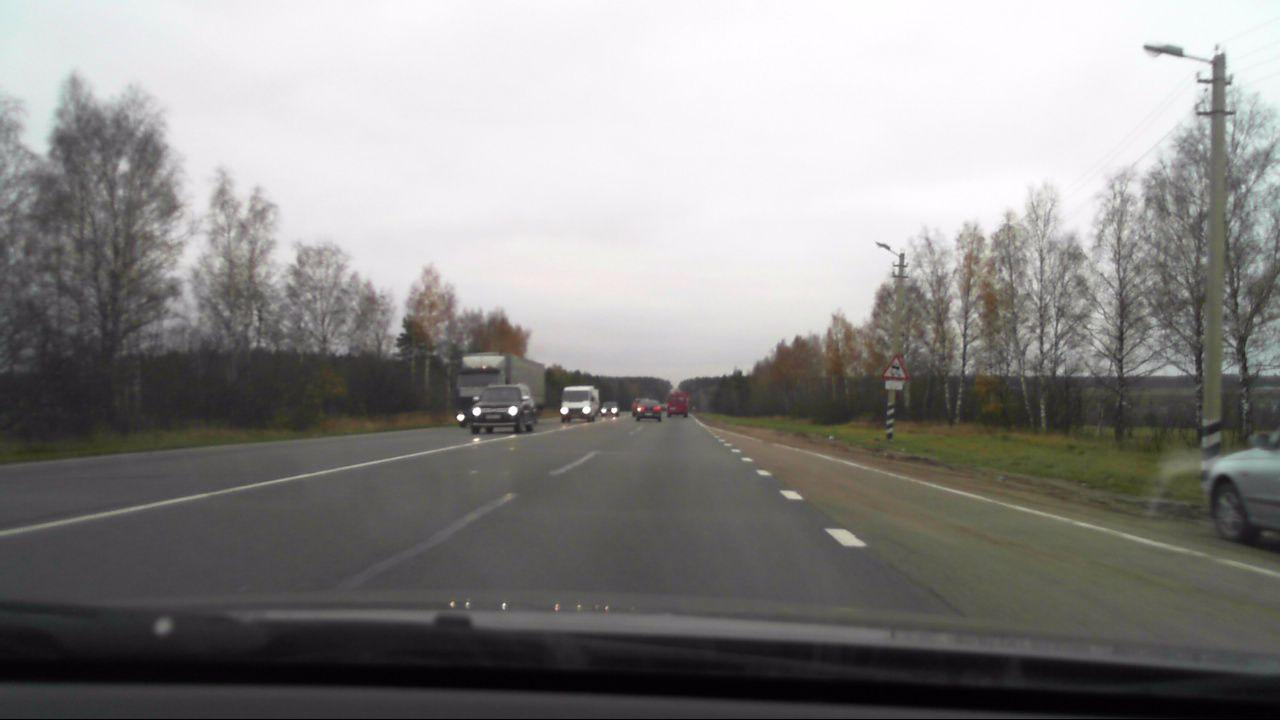1_15: (880, 355, 905, 380)
8_16: (887, 381, 905, 390)
